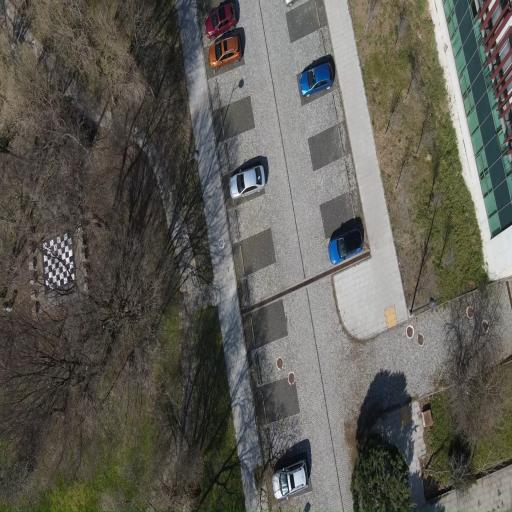person: (273, 460, 307, 499), (208, 35, 242, 70), (329, 228, 362, 264), (230, 166, 265, 199), (300, 63, 333, 97), (206, 4, 236, 38), (285, 0, 294, 6)
